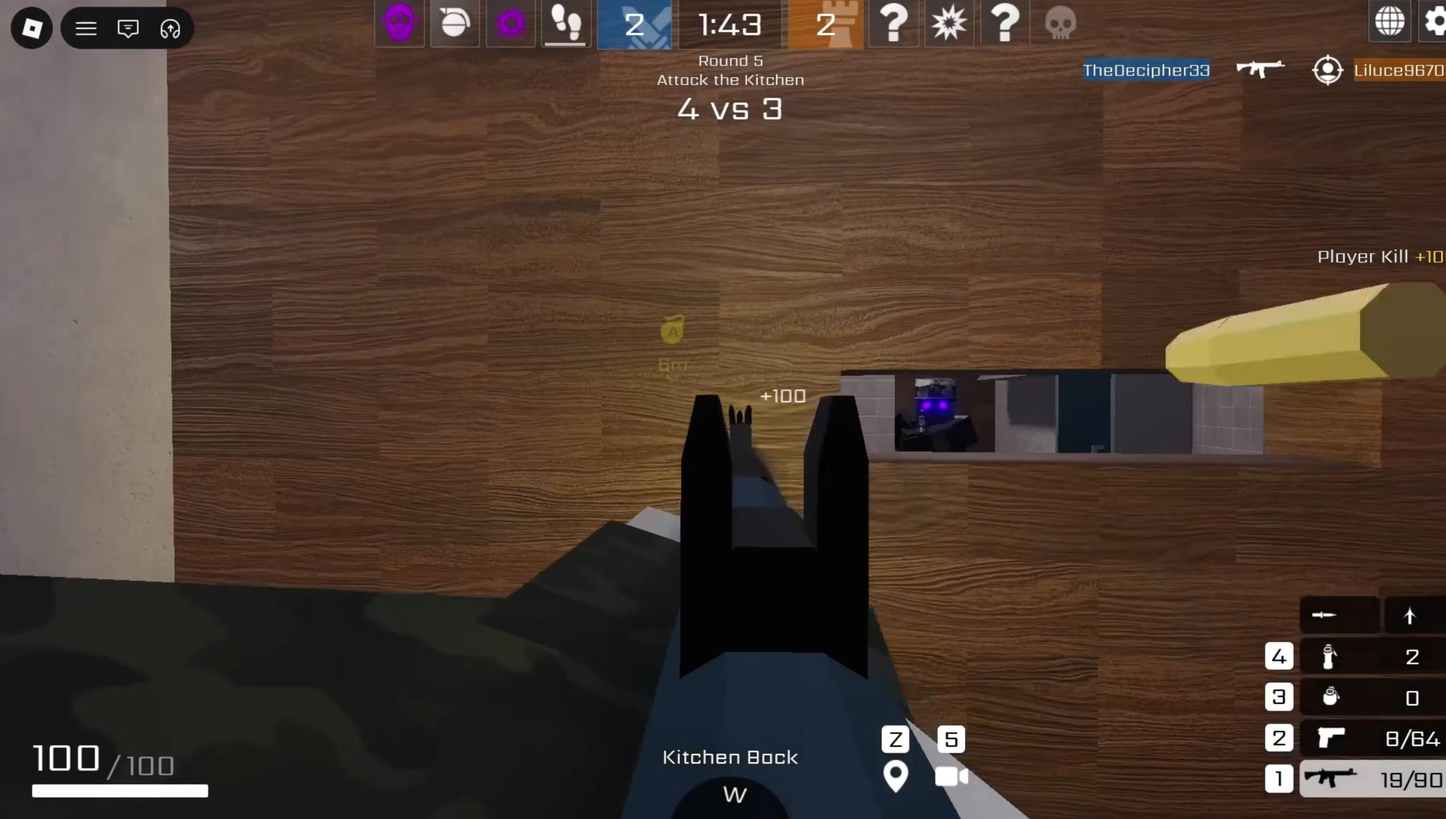enemy: (887, 370, 981, 465)
